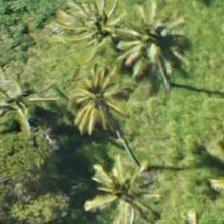coconut_tree: (53, 57, 143, 147), (113, 6, 203, 96), (79, 151, 169, 223), (51, 0, 141, 64)
